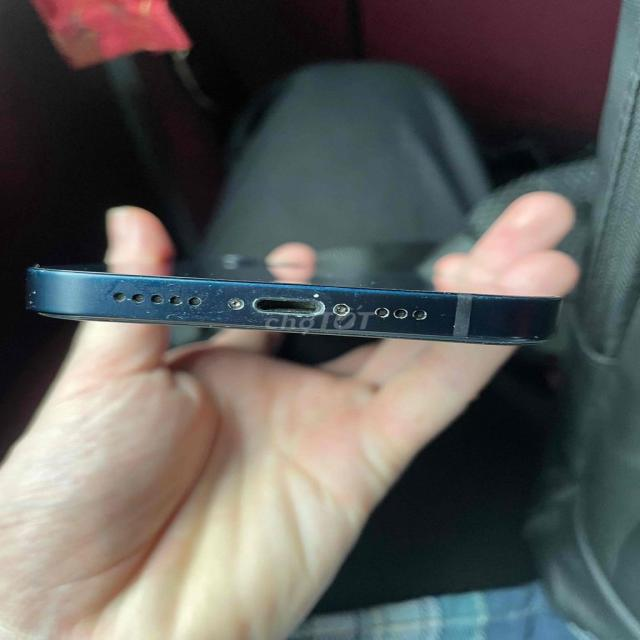gen_12_13: (10, 234, 601, 397)
scratch: (70, 268, 484, 352)
